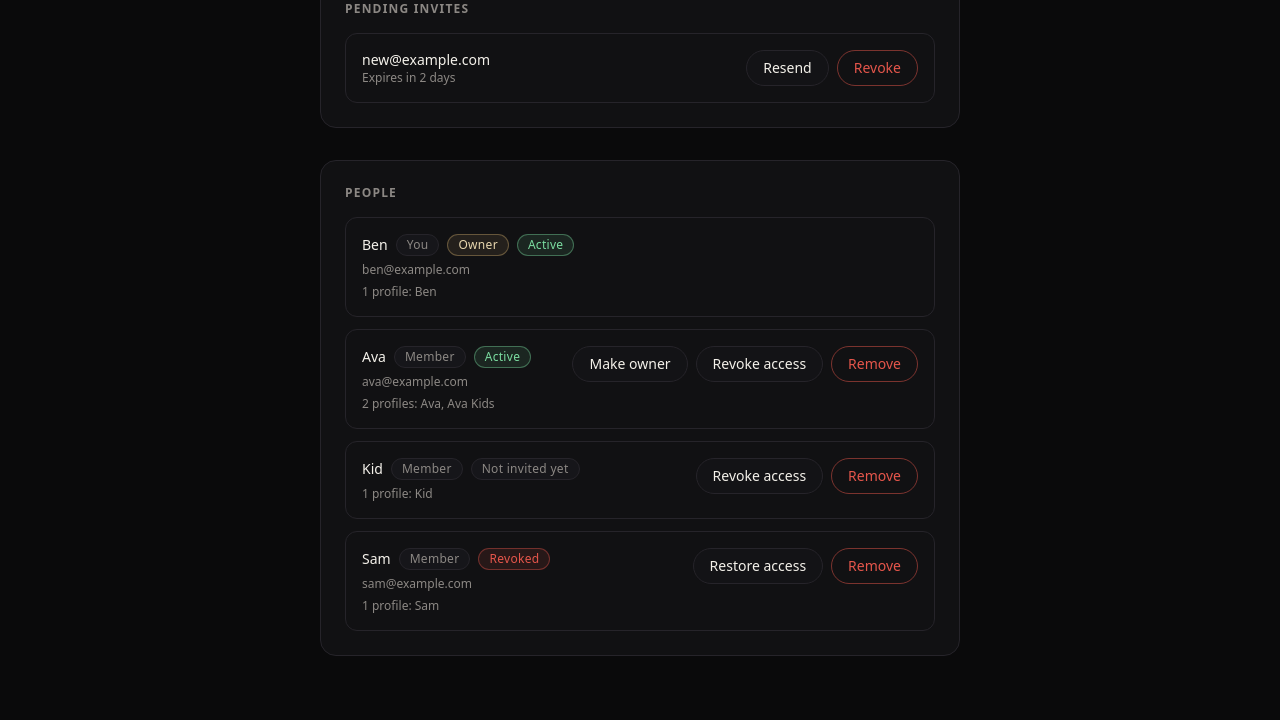
Scenario: MembersView people › names the profiles, history and lists destroyed by a removal
(page scrolled)
Expected: the text "Ava" is shown, [362, 347, 386, 367]
Click the button "Remove" in the row of "ava@example.com".
click(875, 364)  # box [831, 346, 918, 382]
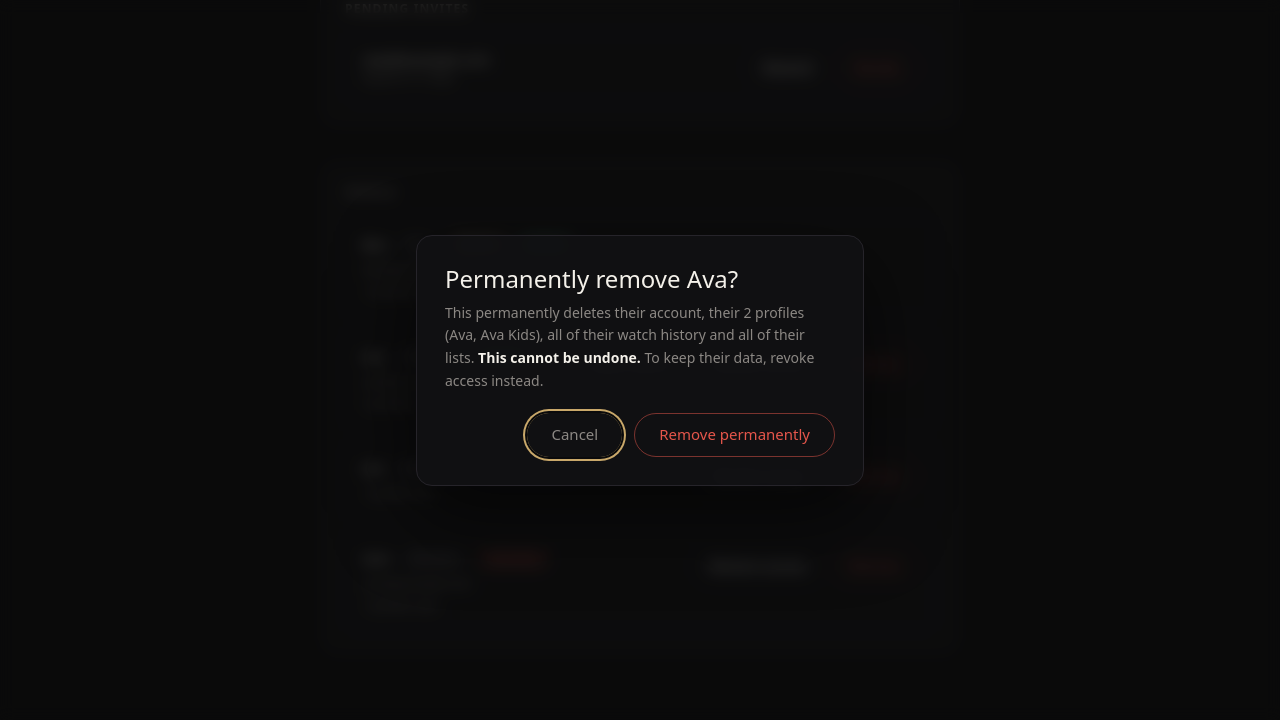
Now the heading "Permanently remove Ava?" is shown, box [445, 262, 738, 294]
Now the dialog shows "2 profiles (Ava, Ava Kids)"
Now the dialog shows "watch history", box [445, 325, 805, 367]
Click the button "Remove permanently".
click(735, 434)  # box [634, 412, 835, 456]
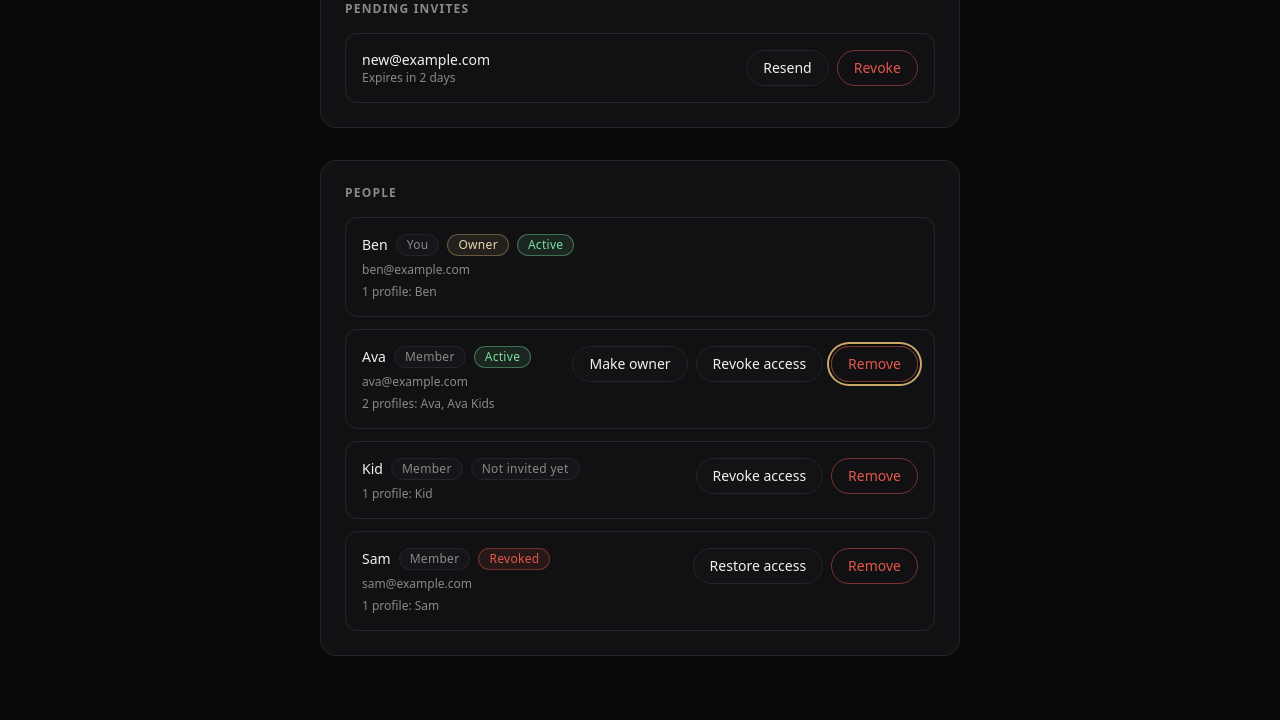
Now the dialog is gone
